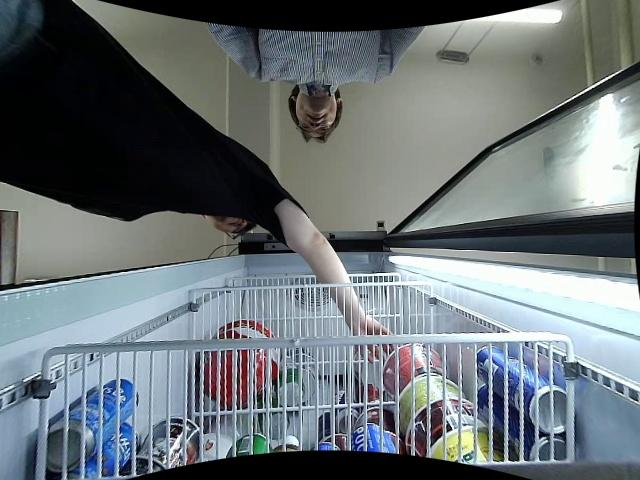00_hand: (351, 314, 395, 363)
